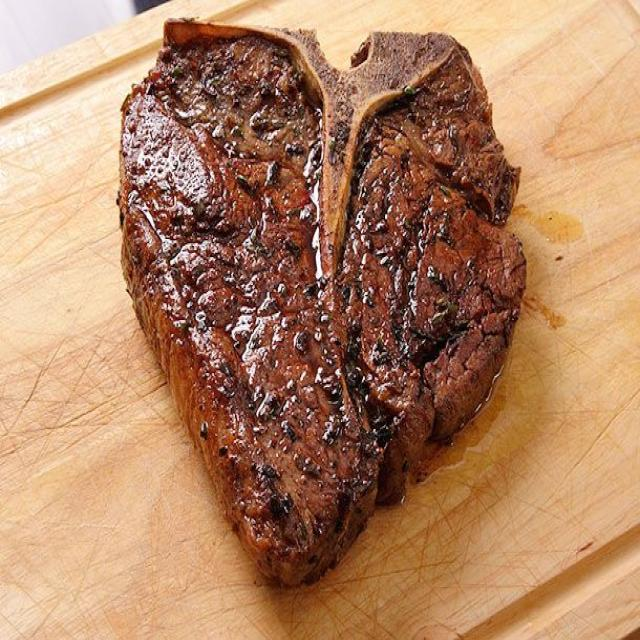beef steak: (120, 21, 525, 581)
